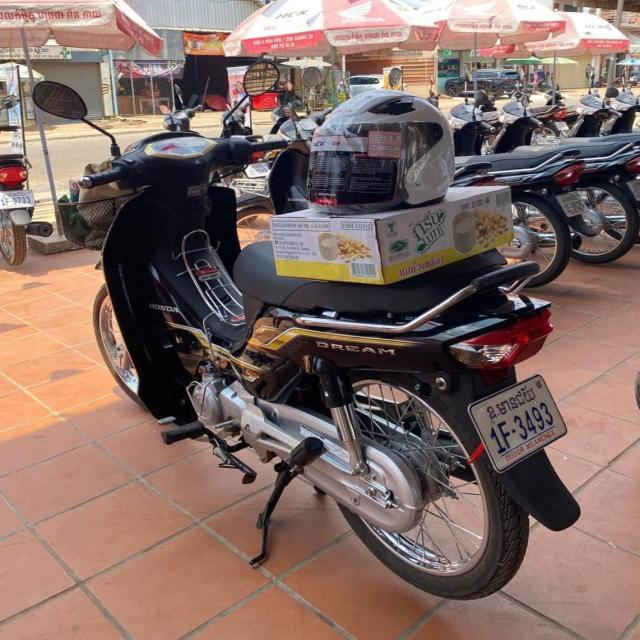Oudor_Meanchey: (487, 386, 536, 419)
